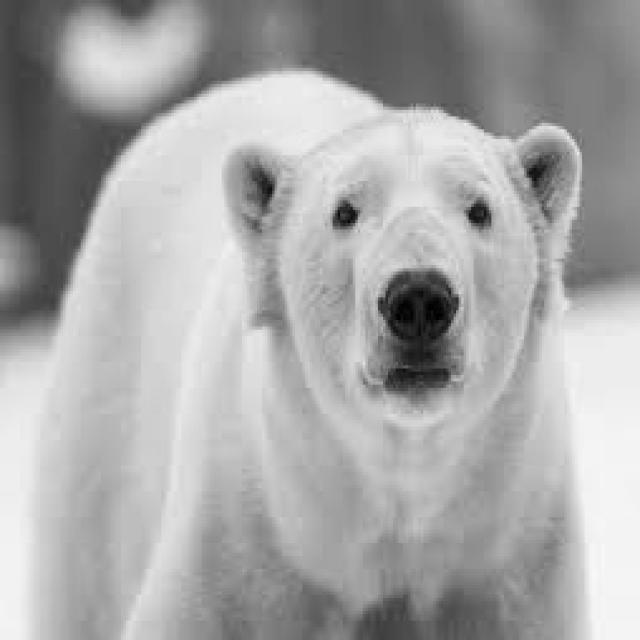Bear: (105, 102, 596, 614)
